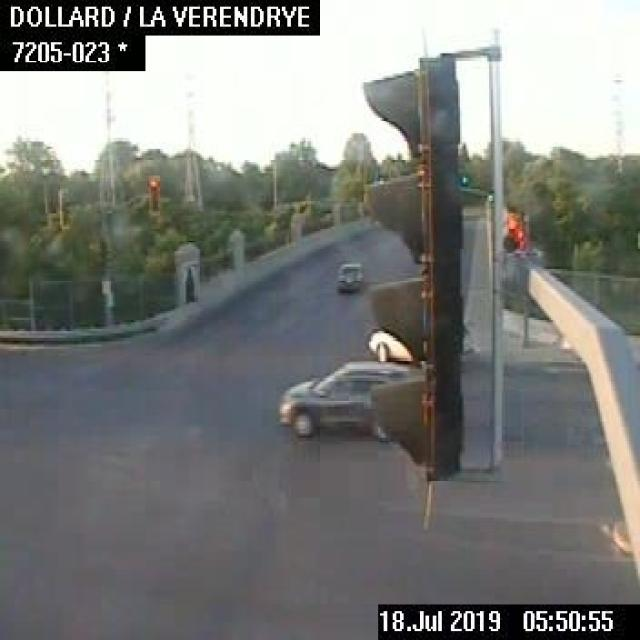vehicle: (274, 362, 414, 440), (365, 322, 417, 364), (333, 258, 362, 289)
